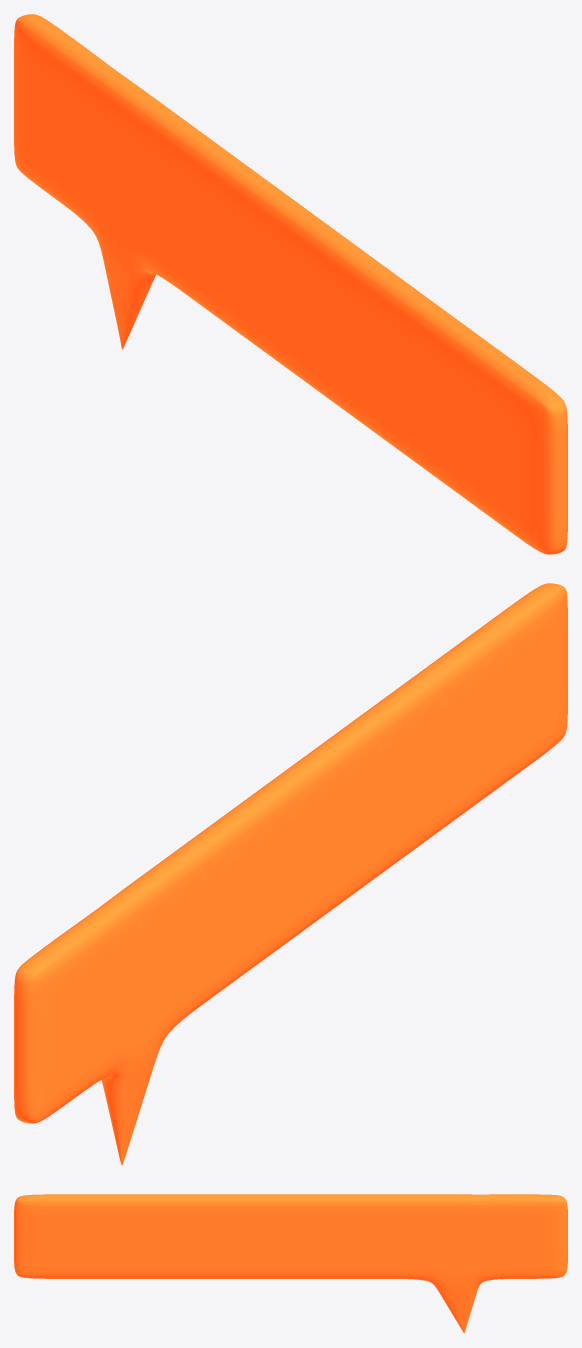
Rendered from areaLabel.glb.
The picture shows the model from 3 angles, top to bottom: view 1: azimuth 30°, elevation 25°; view 2: azimuth 150°, elevation 25°; view 3: azimuth 270°, elevation 25°; orthographic projection. The views are drawn at different scales.
Visible parts, largest first — view 1: object; view 2: object; view 3: object.
Boxes of the visible parts, <box> form: object: <box>14,14,567,554</box>; object: <box>14,583,567,1165</box>; object: <box>14,1194,567,1333</box>.
Size of the model in its own units: 0.2013 by 1.68 by 6.11.
